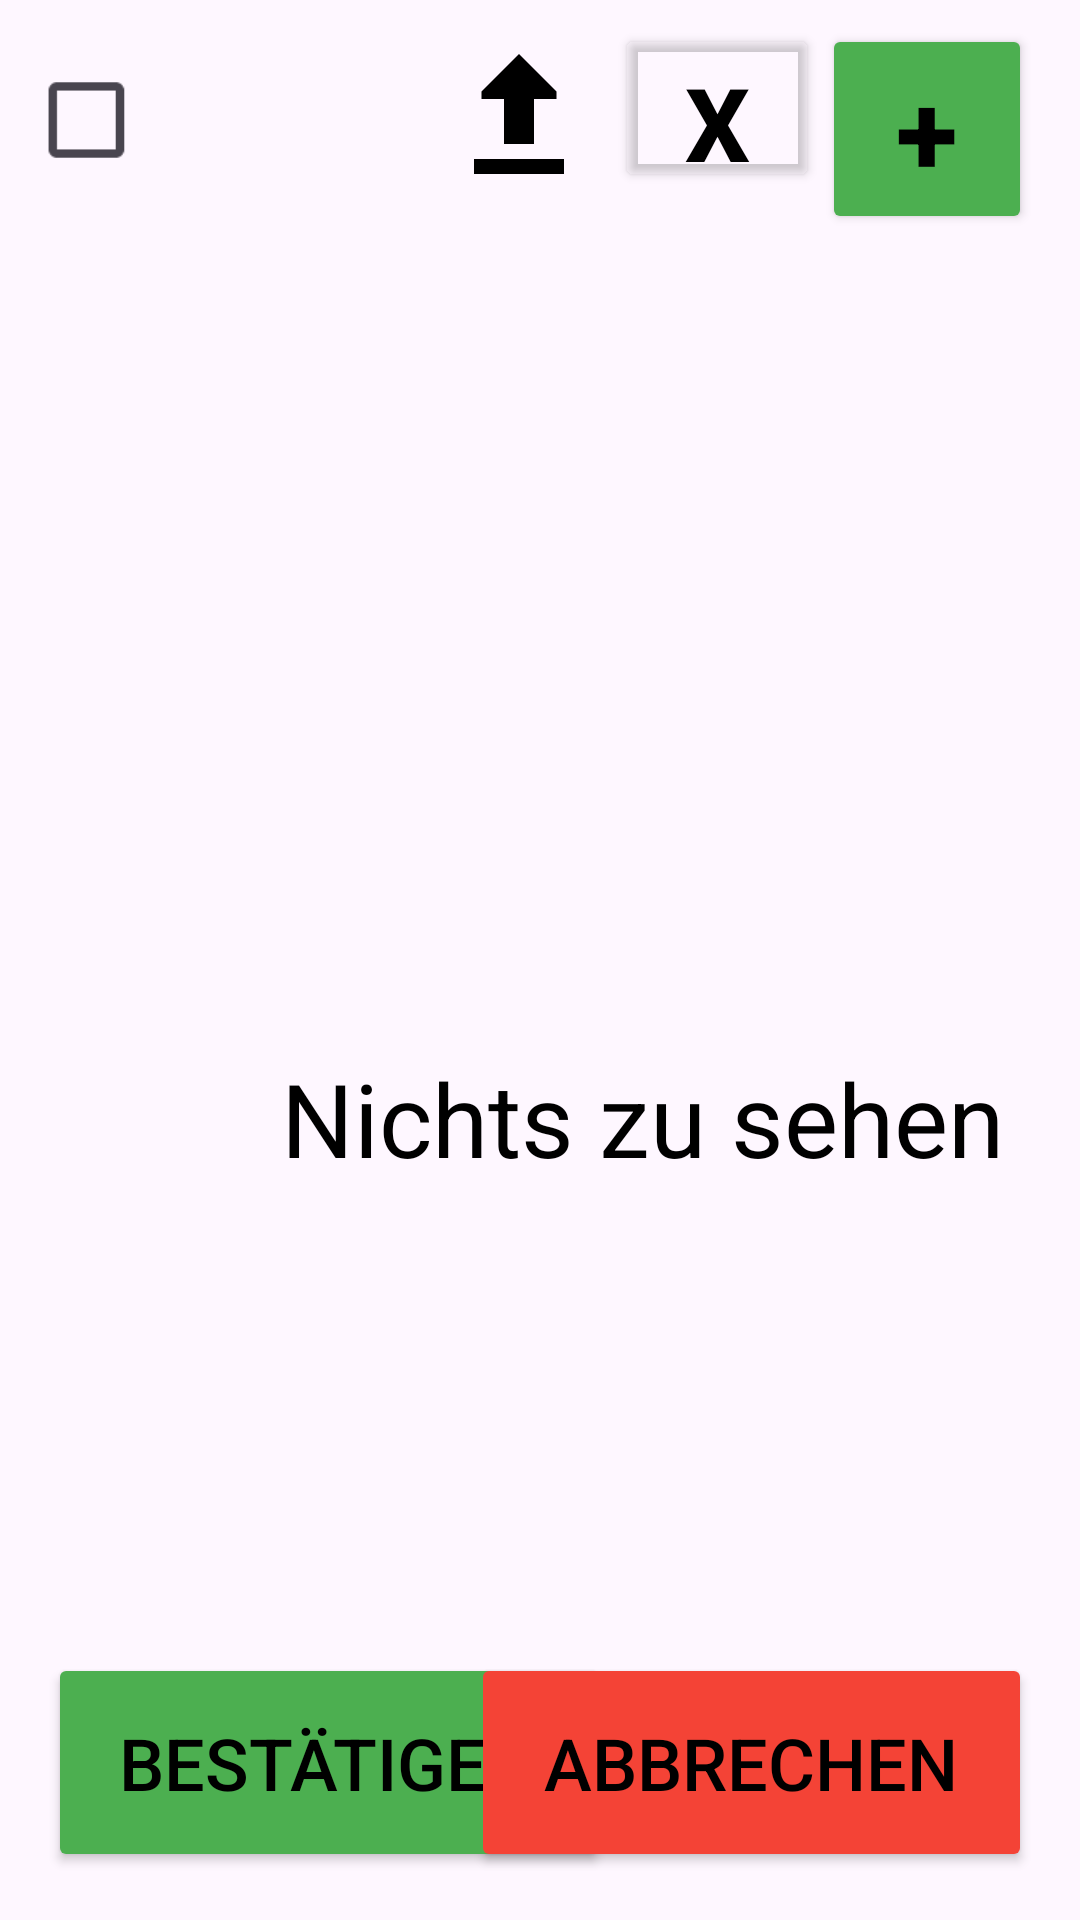

Where icons sit on this 1080px×1920px app screen, as [x1=x1, y1=y1, x2=x2, y2=y2]:
export: [x1=474, y1=54, x2=564, y2=174]
